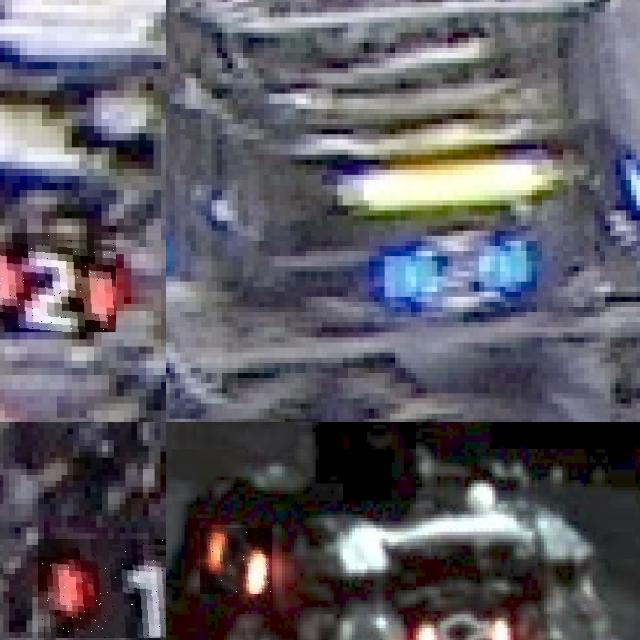R1: (38, 539, 166, 638)
R2: (0, 232, 116, 332)
Rs: (200, 528, 272, 594), (409, 617, 516, 640)
